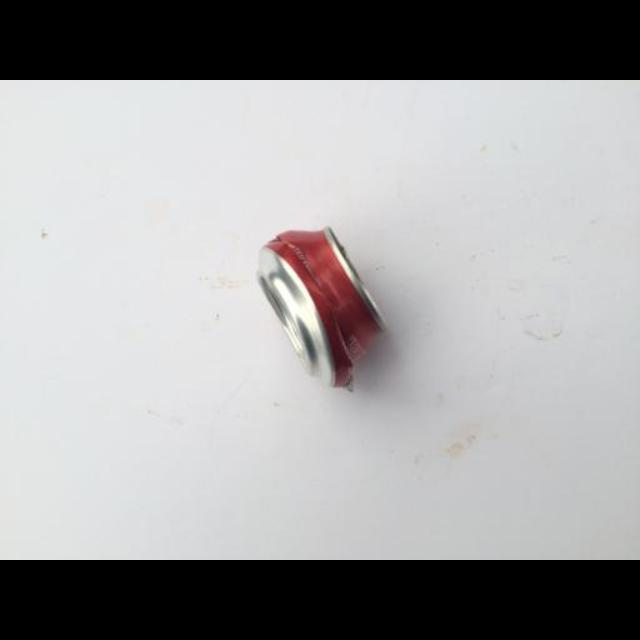lata: (254, 224, 386, 388)
